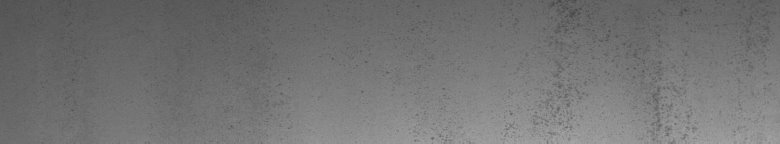ib: (501, 4, 701, 136)
